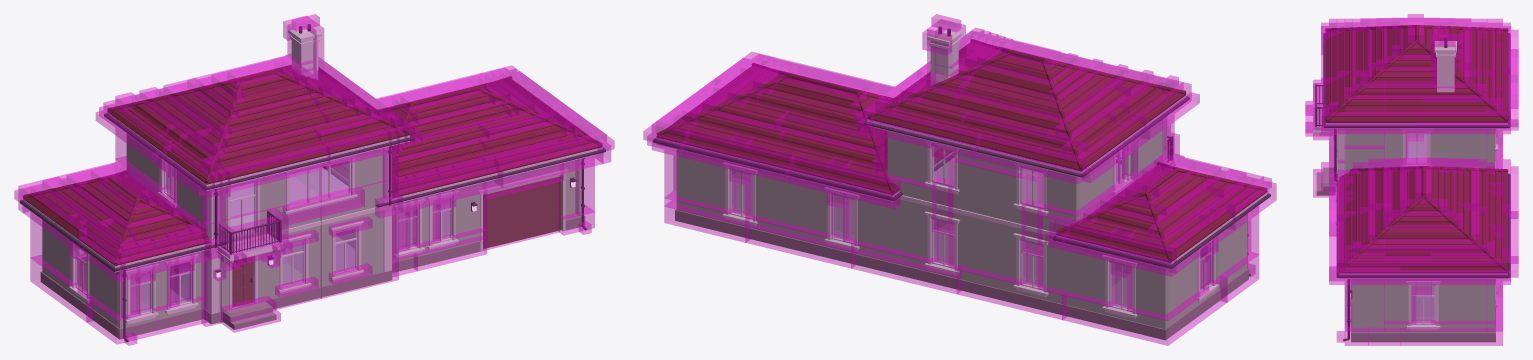
File: Building 04.glb
3 renders of one model, left to right at view 1: azimuth 30°, elevation 25°; view 2: azimuth 150°, elevation 25°; view 3: azimuth 270°, elevation 25°, orthographic. The views are drawn at different scales.
Parts seen in each view (by area): view 1: building, col_wall_01, col_block_02, col_block_37, col_wall_02, garagedoor, col_roof_19, col_floor_02, col_wall_56, col_block_07, col_wall_30, col_block_33 (+91 smaller); view 2: building, col_wall_07, col_wall_08, col_wall_10, col_block_07, col_floor_01, col_block_09, col_wall_11, col_roof_19, col_block_35, col_floor_03, col_wall_52 (+82 smaller); view 3: building, col_wall_12, col_block_42, col_block_06, col_wall_32, col_block_38, col_block_22, col_floor_10, col_wall_78, col_block_45, col_roof_19, col_column_12 (+97 smaller).
Part boxes in pixels (bbox=[...]): building: bbox=[19, 24, 605, 342]; col_wall_01: bbox=[321, 176, 398, 298]; col_block_02: bbox=[220, 195, 321, 322]; col_block_37: bbox=[187, 127, 321, 220]; col_wall_02: bbox=[478, 135, 559, 250]; garagedoor: bbox=[483, 176, 561, 248]; col_roof_19: bbox=[163, 61, 319, 133]; col_floor_02: bbox=[86, 297, 207, 344]; col_wall_56: bbox=[317, 112, 398, 196]; col_block_07: bbox=[30, 178, 84, 286]; col_wall_30: bbox=[494, 142, 603, 188]; col_block_33: bbox=[75, 171, 173, 227]; building: bbox=[653, 26, 1270, 340]; col_wall_07: bbox=[948, 156, 1027, 284]; col_wall_08: bbox=[843, 160, 938, 263]; col_wall_10: bbox=[745, 137, 835, 237]; col_block_07: bbox=[1127, 212, 1208, 320]; col_floor_01: bbox=[1062, 276, 1227, 345]; col_block_09: bbox=[1038, 213, 1120, 306]; col_wall_11: bbox=[664, 117, 738, 213]; col_roof_19: bbox=[958, 44, 1123, 121]; col_block_35: bbox=[1038, 123, 1124, 216]; col_floor_03: bbox=[957, 266, 1066, 319]; col_wall_52: bbox=[875, 103, 938, 189]; building: bbox=[1313, 25, 1510, 342]; col_wall_12: bbox=[1431, 253, 1486, 323]; col_block_42: bbox=[1376, 203, 1478, 241]; col_block_06: bbox=[1345, 252, 1384, 331]; col_wall_32: bbox=[1400, 259, 1502, 284]; col_block_38: bbox=[1424, 109, 1486, 162]; col_block_22: bbox=[1384, 207, 1486, 252]; col_floor_10: bbox=[1400, 324, 1502, 345]; col_wall_78: bbox=[1321, 112, 1415, 130]; col_block_45: bbox=[1384, 165, 1455, 212]; col_roof_19: bbox=[1368, 18, 1470, 70]; col_column_12: bbox=[1384, 256, 1415, 323].
Size of the model in its own units: 23.79 by 10.31 by 9.58.
